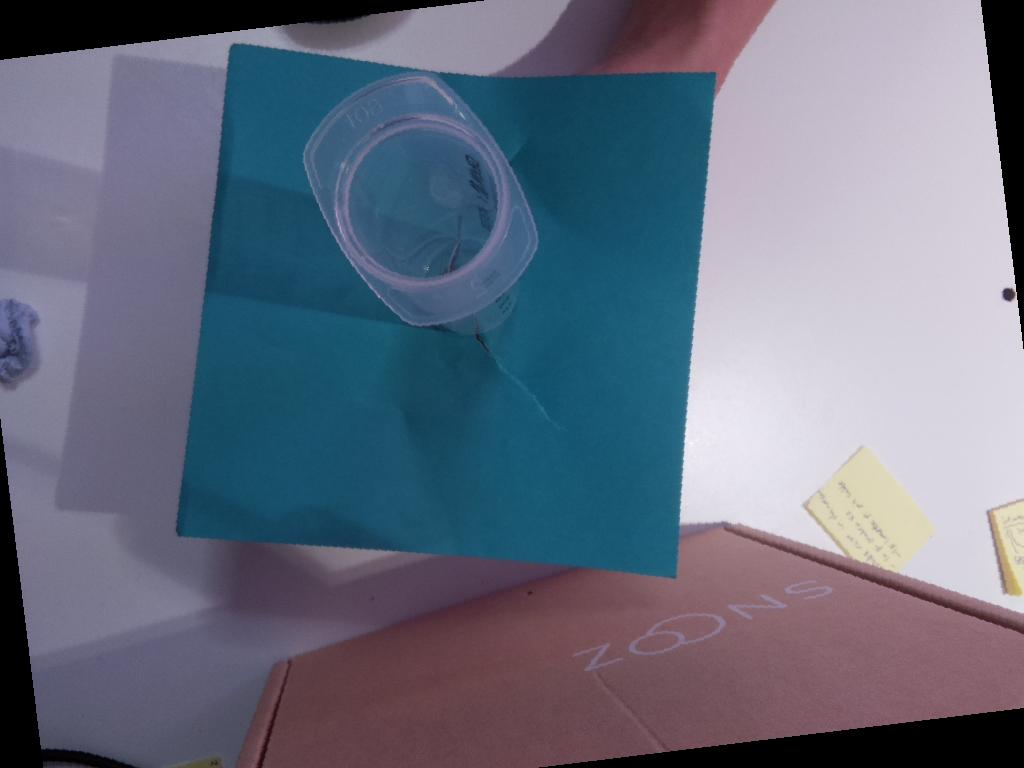clean: (301, 69, 540, 330)
